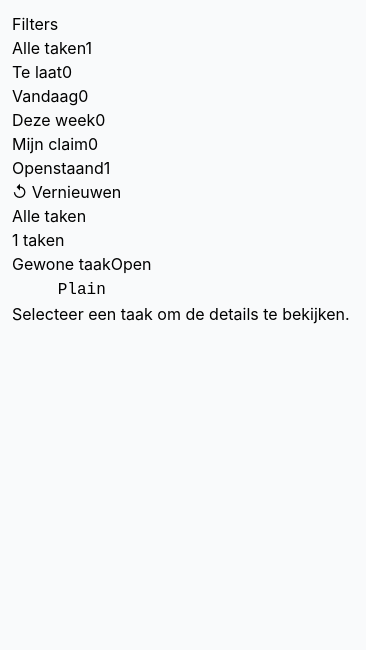
Test case: TakenInbox procesweergave › keeps the flat step list, and offers no process view, for a process without lanes
Click the text "Gewone taak".
click(61, 264)  # box 12,254 -> 111,274
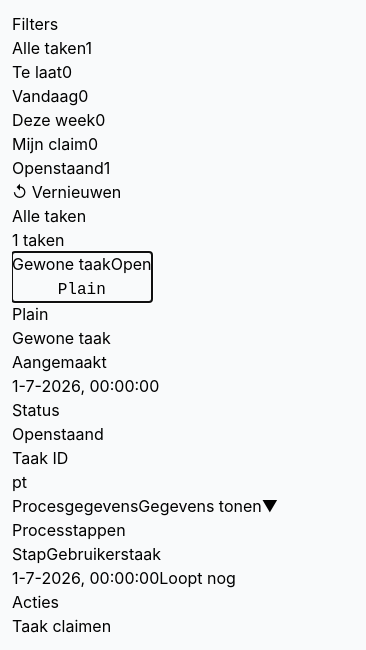
Check: the list that starts with "Stap" is shown, box 12,544 -> 236,588
